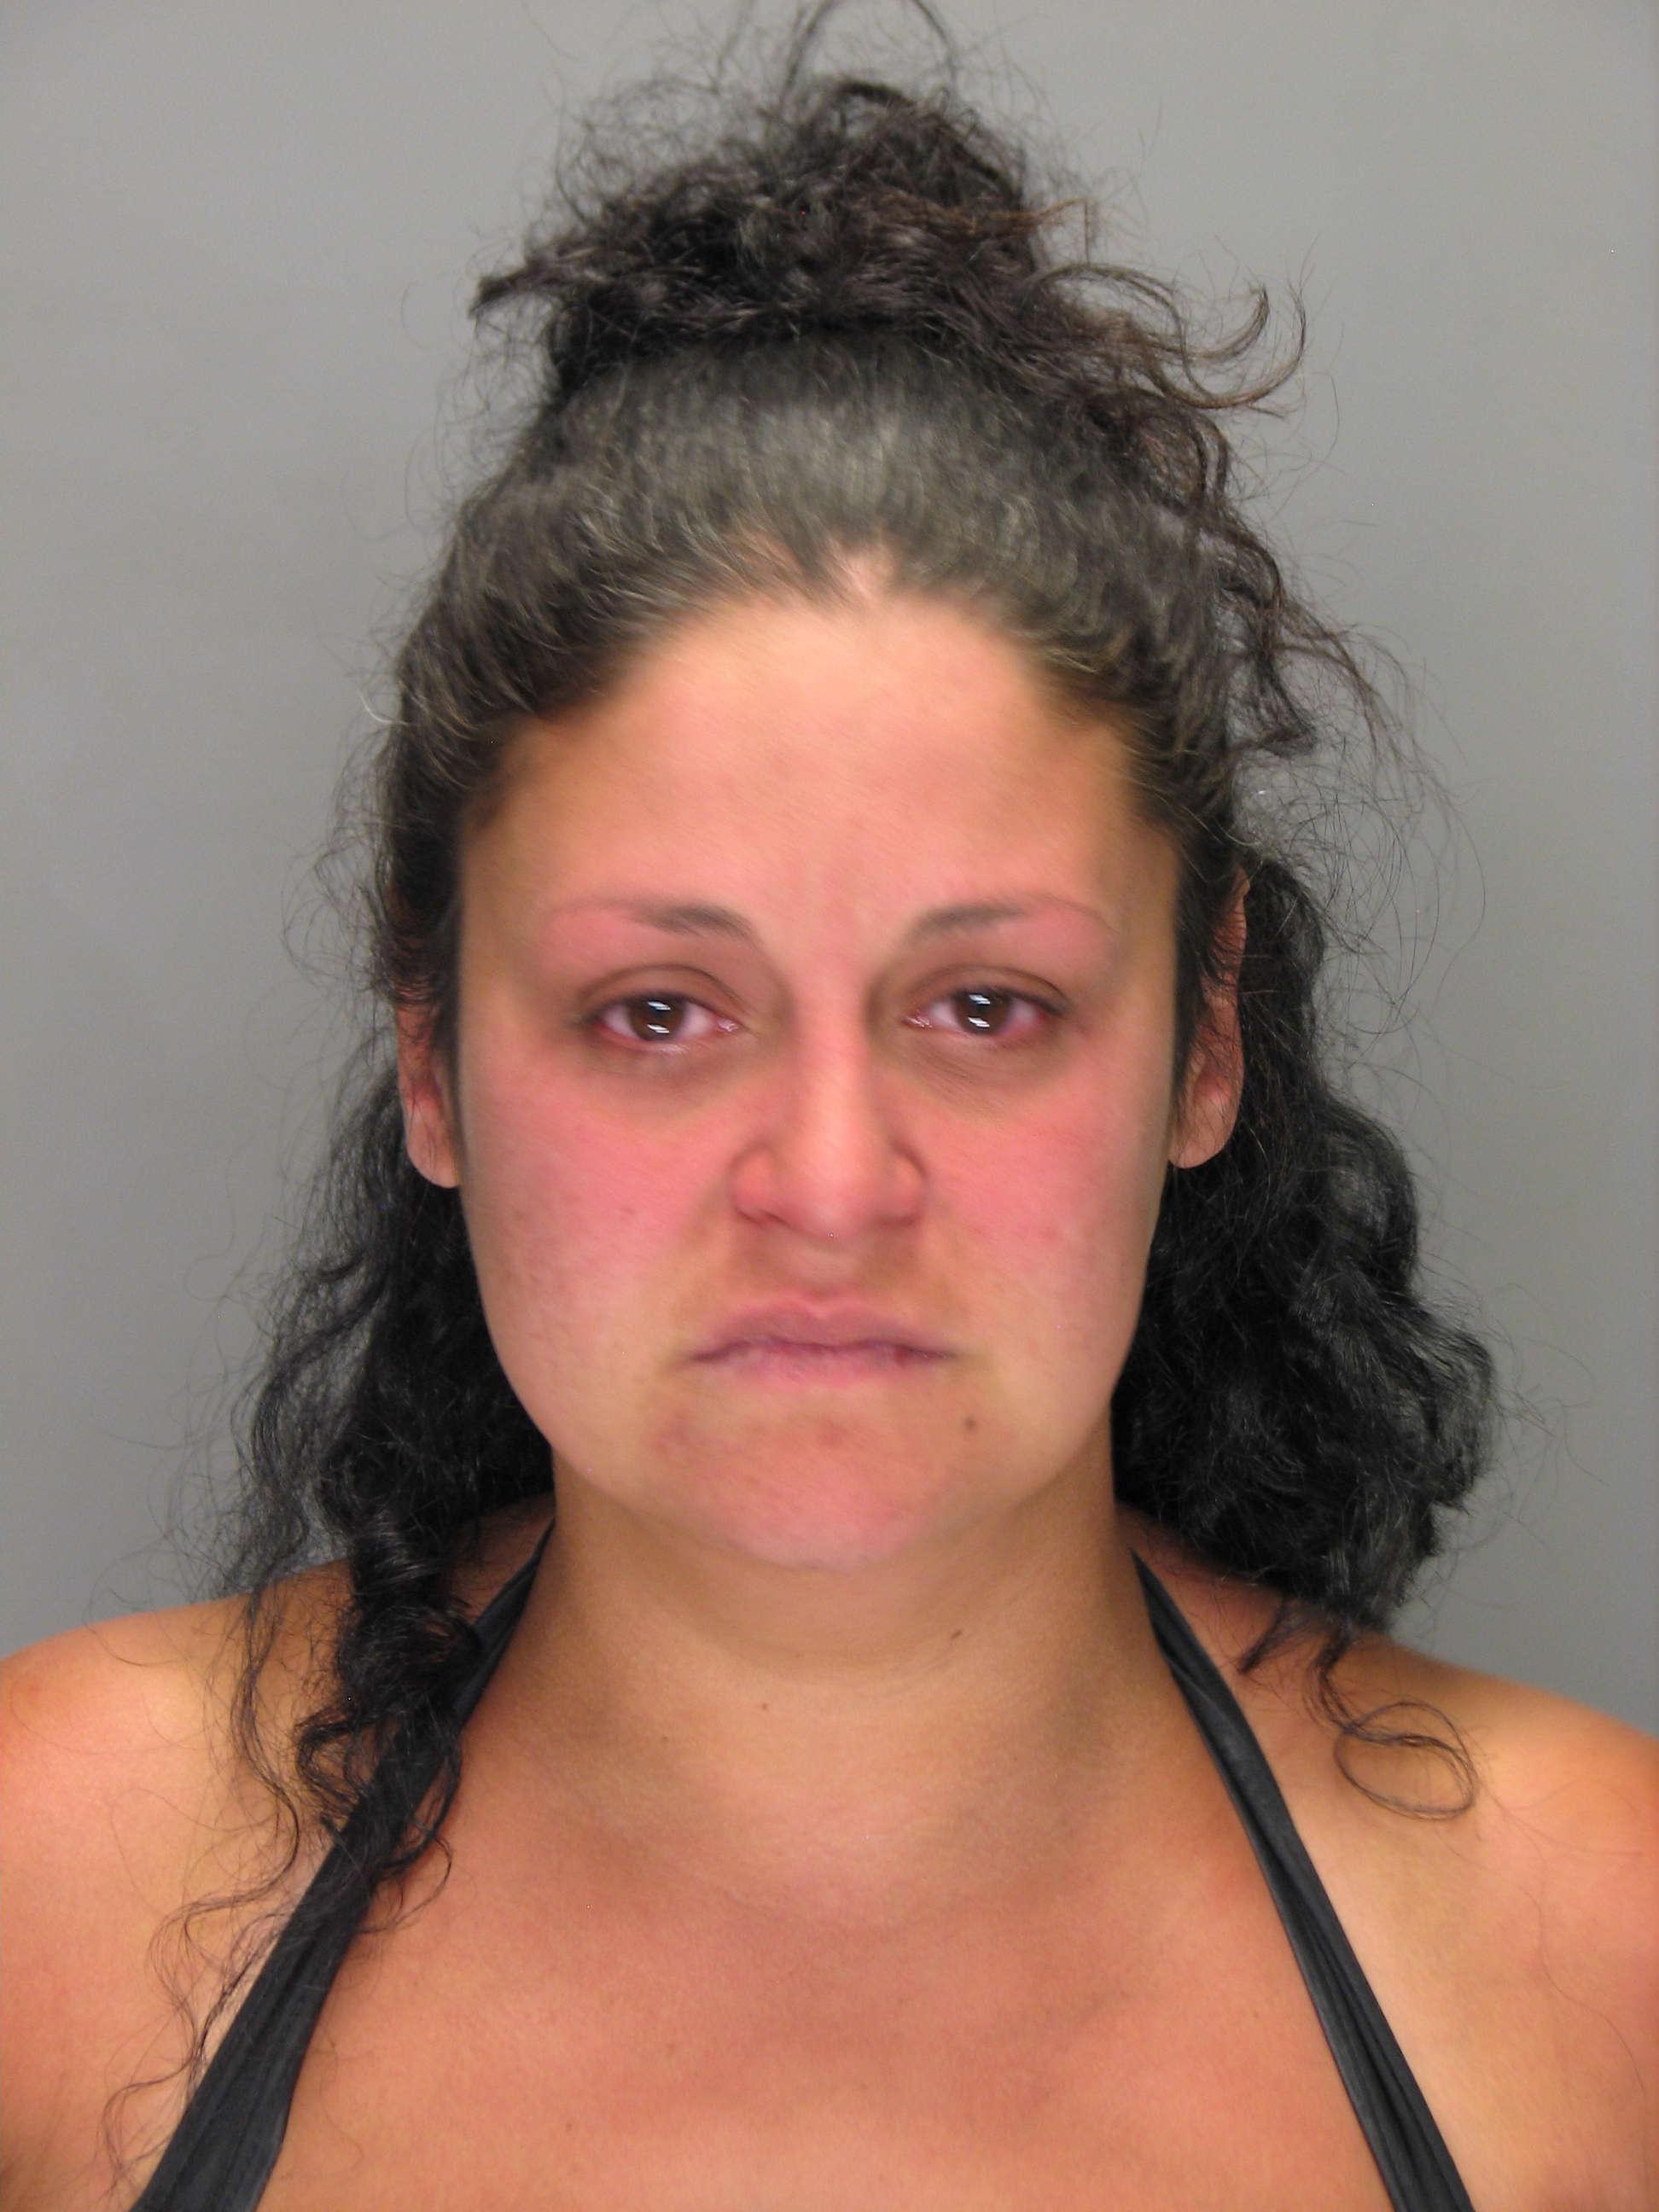Drunk: (476, 590, 1161, 1533)
